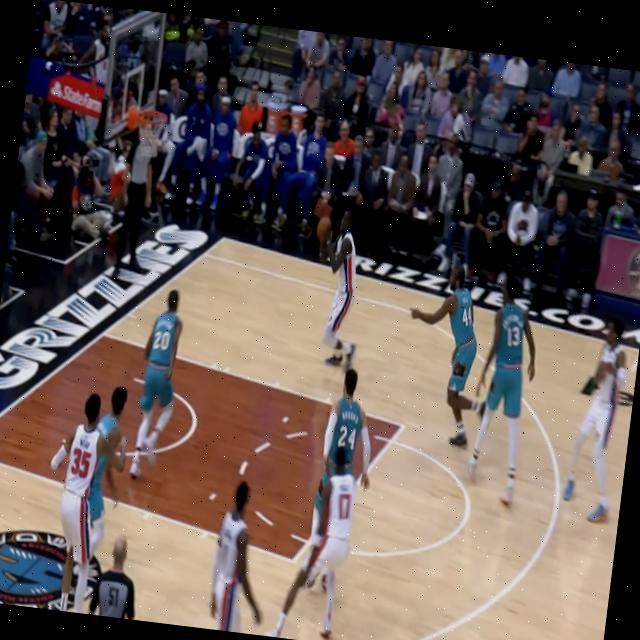no foul: (405, 250, 550, 516), (276, 342, 377, 640), (37, 364, 128, 616)
